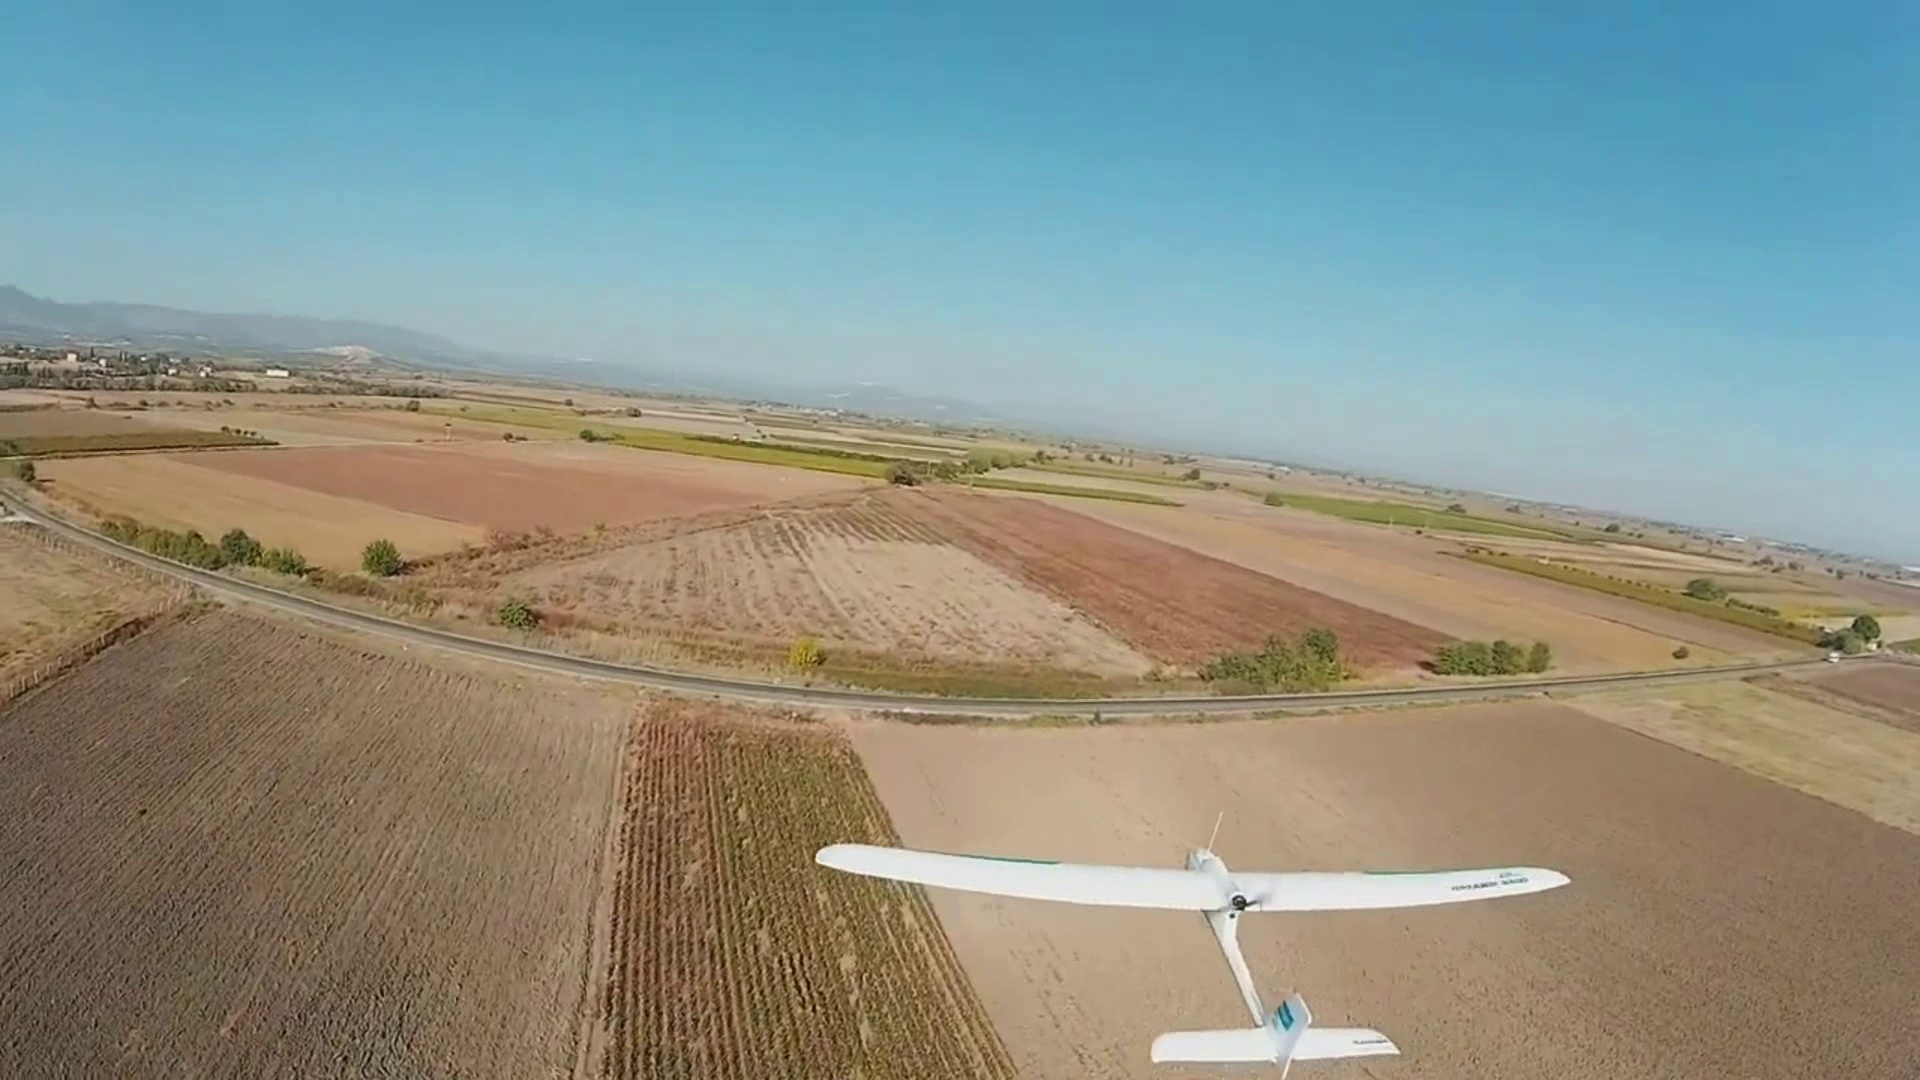airplane: (815, 848, 1569, 1065)
